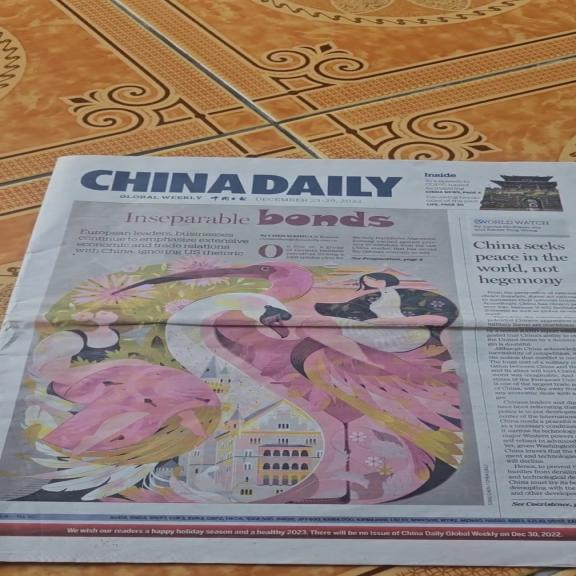Kertas: (64, 155, 567, 560)
